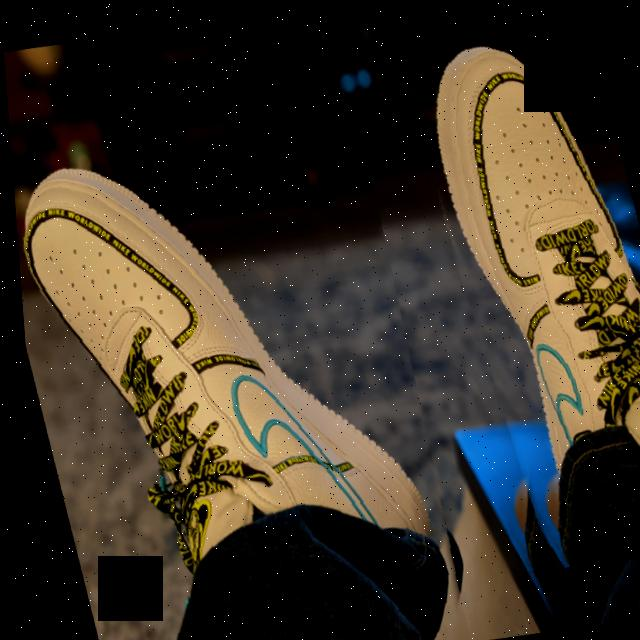shoe: (5, 78, 480, 640), (379, 11, 640, 575)
